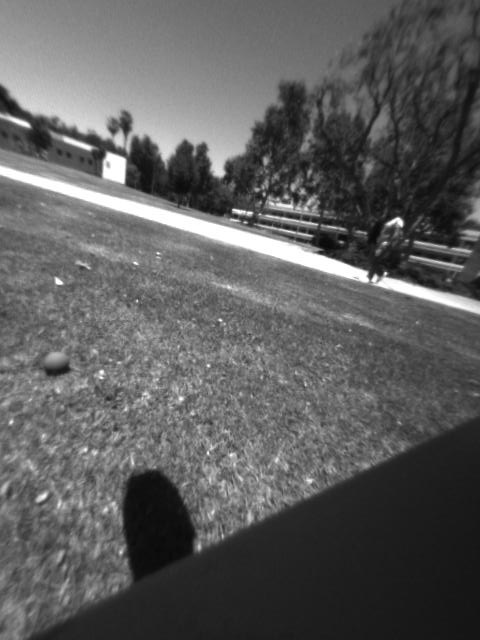dogtoy: (34, 342, 79, 379)
